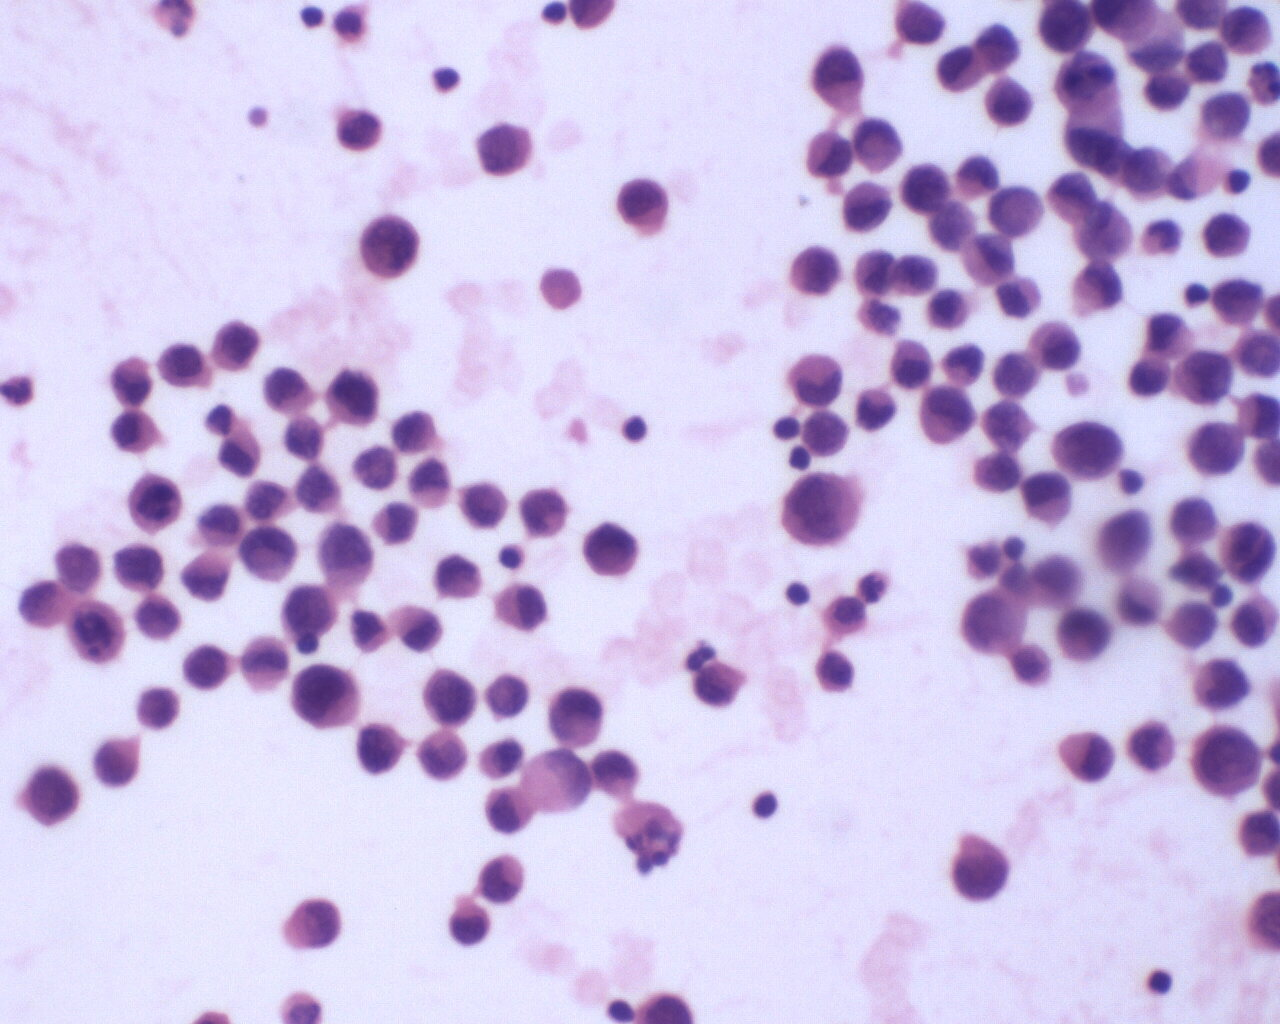ab: (778, 470, 863, 557), (1190, 719, 1264, 802), (289, 659, 368, 735), (946, 830, 1014, 908), (953, 590, 1031, 658), (1050, 415, 1130, 482), (356, 211, 423, 286), (316, 518, 382, 592), (1214, 516, 1280, 587), (18, 760, 83, 832), (238, 522, 308, 586), (579, 518, 643, 588), (804, 43, 869, 108), (473, 115, 537, 182), (917, 381, 979, 450), (125, 470, 187, 536), (419, 664, 481, 729), (546, 681, 606, 749), (1183, 416, 1246, 480), (895, 156, 957, 219), (289, 891, 346, 960), (1174, 343, 1234, 405), (323, 366, 381, 429), (413, 725, 472, 786), (277, 583, 341, 639), (839, 174, 897, 236), (1033, 1, 1098, 55), (614, 172, 670, 235), (91, 729, 146, 791), (1051, 608, 1113, 664), (1200, 206, 1258, 263), (208, 319, 264, 377), (788, 243, 846, 300), (111, 540, 170, 595), (357, 718, 410, 779), (1128, 713, 1180, 775), (457, 476, 514, 532), (1165, 491, 1223, 546), (980, 71, 1035, 129), (1028, 317, 1087, 371), (1218, 5, 1275, 59), (263, 364, 318, 418), (690, 660, 749, 709), (154, 339, 210, 389), (806, 406, 855, 461), (973, 448, 1025, 496), (812, 648, 855, 691)
lymph: (620, 409, 654, 448), (747, 787, 784, 821), (1147, 963, 1178, 1000)
neutro: (854, 562, 897, 607)
